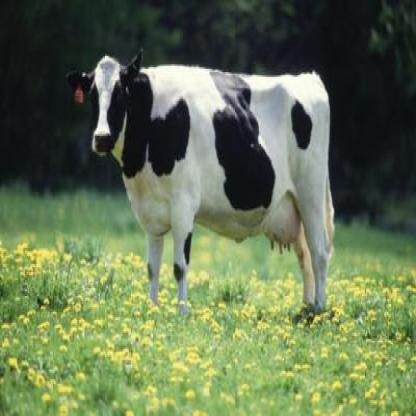lower: (96, 152, 111, 156)
mouth: (92, 130, 116, 158)
upper: (100, 137, 109, 142)
